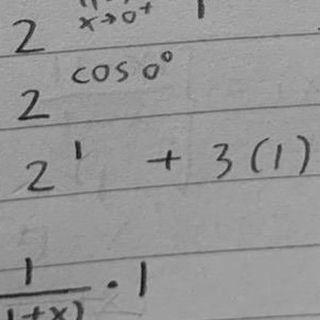.: (103, 276, 120, 293)
1: (136, 259, 151, 300), (270, 141, 285, 173), (21, 255, 35, 288), (71, 137, 85, 164)
2: (10, 16, 46, 54), (15, 88, 51, 122), (23, 158, 57, 194)
3: (210, 141, 234, 182)
